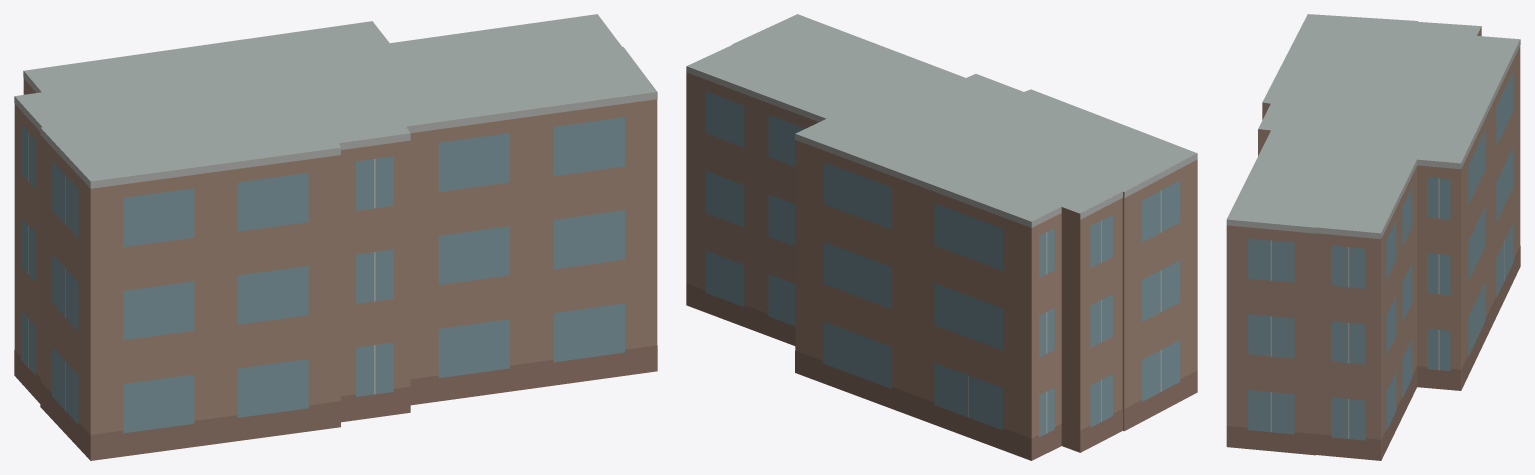
File: survey-upis-32657975.glb
3 renders of one model, left to right at view 1: azimuth 30°, elevation 25°; view 2: azimuth 150°, elevation 25°; view 3: azimuth 270°, elevation 25°, orthographic. The views are drawn at different scales.
Parts seen in each view (by area): view 1: survey-upis-32657975.tmp; view 2: survey-upis-32657975.tmp; view 3: survey-upis-32657975.tmp.
Boxes of the visible parts, box(x1,y1,x2,y2) form: survey-upis-32657975.tmp: box(14, 14, 657, 460); survey-upis-32657975.tmp: box(686, 14, 1197, 460); survey-upis-32657975.tmp: box(1226, 14, 1520, 460).
Bounding box in the file's own units: 19.66 × 9.5 × 11.13.
